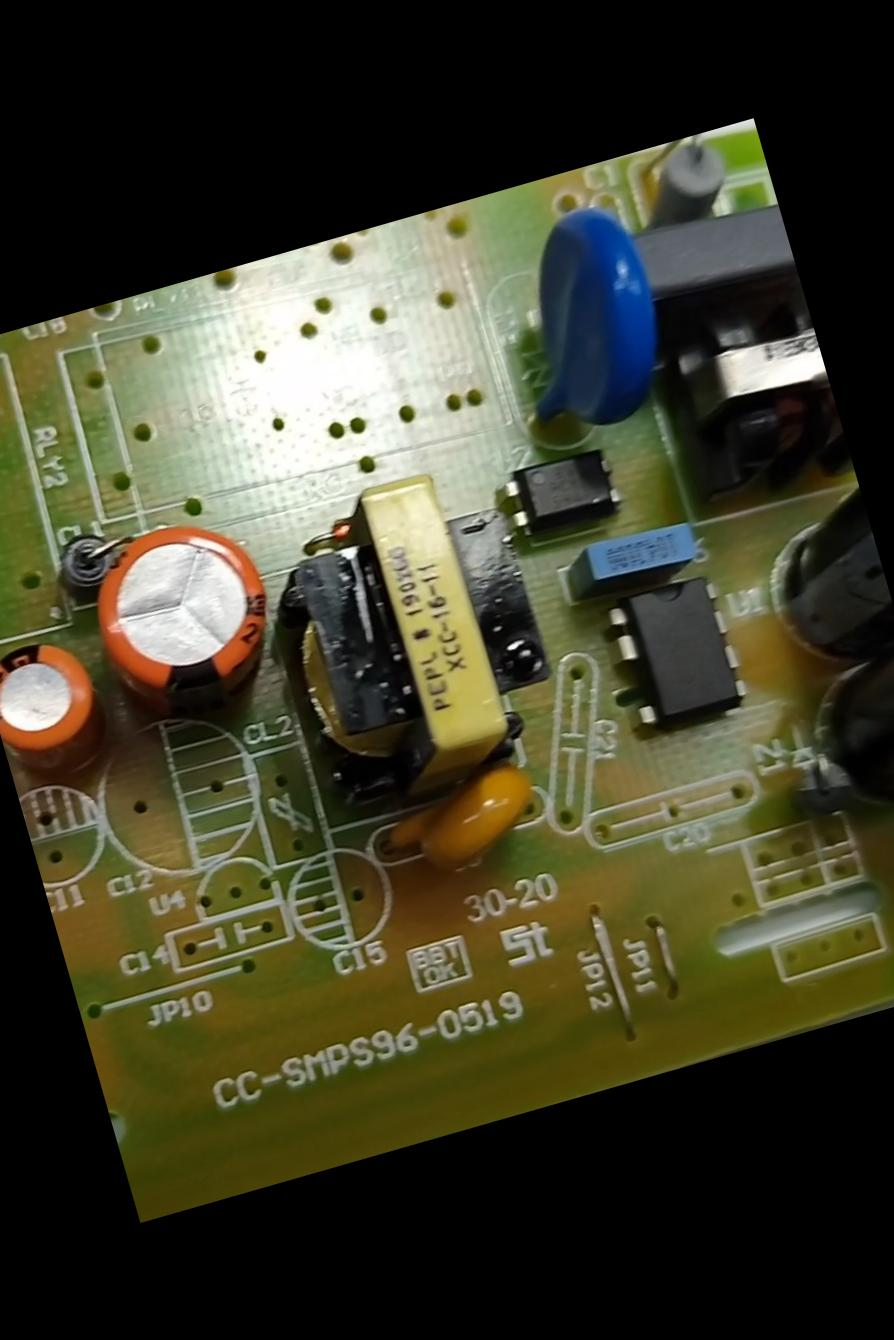Cap1: (59, 494, 300, 748)
Cap2: (0, 595, 132, 790)
Cap3: (745, 457, 893, 674)
Cap4: (764, 610, 893, 840)
MOSFET: (570, 543, 766, 760)
Mov: (466, 180, 697, 481)
Resistor: (628, 126, 754, 244)
Transformer: (220, 445, 576, 824), (621, 274, 860, 543)
